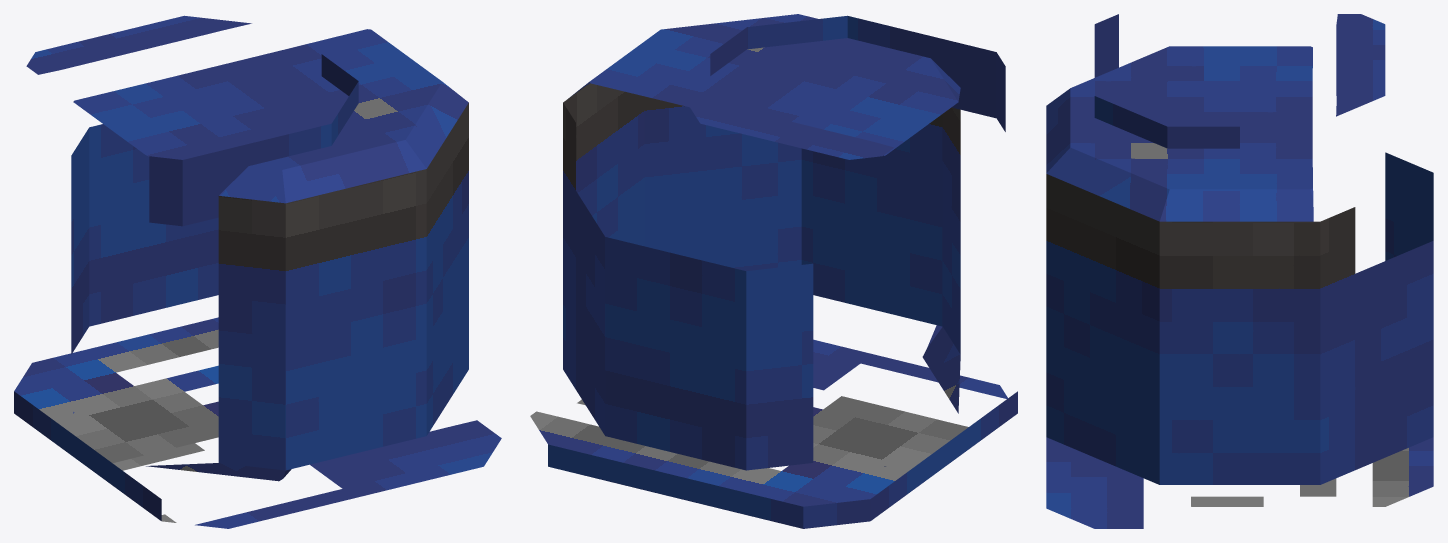
Rendered from advanced_air_compressor.obj.
3 renders of one model, left to right at view 1: azimuth 30°, elevation 25°; view 2: azimuth 150°, elevation 25°; view 3: azimuth 270°, elevation 25°, orthographic.
Parts seen in each view (by area): view 1: Group_001, Group_003, Group_002; view 2: Group_001, Group_003, Group_002; view 3: Group_001, Group_003, Group_002.
Part boxes in pixels (x1,y1,x2,y2): Group_001: [71, 29, 468, 481]; Group_003: [14, 317, 501, 528]; Group_002: [26, 15, 358, 226]; Group_001: [563, 14, 960, 470]; Group_003: [530, 339, 1017, 528]; Group_002: [682, 15, 1005, 159]; Group_001: [1046, 46, 1433, 484]; Group_003: [1046, 437, 1433, 528]; Group_002: [1094, 14, 1385, 148].
Size of the model in its own units: 1 by 1 by 1.
